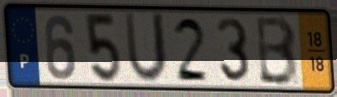2: (171, 15, 210, 84)
3: (215, 16, 252, 84)
5: (81, 10, 124, 85)
6: (43, 12, 77, 82)
B: (255, 14, 301, 89)
U: (122, 10, 169, 87)
